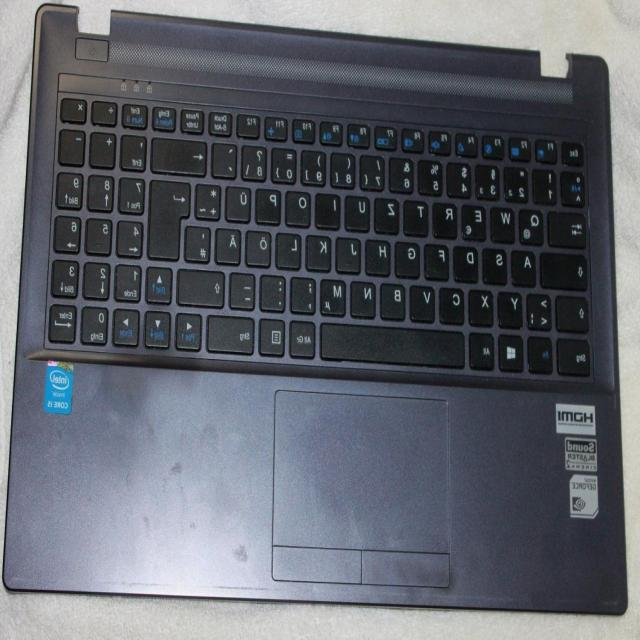0: (274, 144, 300, 181)
1: (535, 165, 559, 202)
2: (506, 164, 530, 200)
3: (478, 161, 502, 197)
4: (449, 159, 474, 195)
5: (420, 157, 445, 193)
6: (391, 154, 416, 190)
7: (363, 151, 387, 188)
8: (333, 149, 359, 187)
9: (303, 146, 329, 183)
a: (514, 247, 539, 284)
accent: (214, 139, 240, 175)
ae: (218, 225, 244, 263)
alt-left: (472, 329, 498, 367)
altgr-right: (292, 318, 318, 356)
b: (382, 279, 409, 317)
c: (441, 284, 467, 323)
caret: (564, 168, 588, 204)
comma: (293, 274, 319, 312)
d: (456, 242, 482, 281)
del: (154, 134, 210, 172)
e: (464, 200, 489, 238)
enter: (150, 176, 194, 258)
f: (428, 240, 452, 277)
g: (398, 238, 422, 275)
h: (368, 236, 394, 273)
hash: (187, 222, 213, 260)
i: (318, 190, 343, 226)
j: (339, 233, 363, 271)
k: (308, 231, 334, 269)
keyboard: (41, 71, 606, 388)
l: (279, 229, 304, 267)
less: (529, 290, 555, 329)
m: (323, 275, 349, 314)
minus: (232, 270, 259, 308)
n: (353, 278, 379, 316)
o: (288, 187, 314, 224)
oe: (248, 228, 274, 265)
p: (258, 184, 284, 222)
plus: (198, 180, 224, 218)
point: (263, 272, 289, 310)
q: (521, 205, 547, 243)
r: (434, 199, 460, 236)
s: (486, 244, 510, 282)
shift-left: (558, 292, 592, 330)
shift-lock: (543, 249, 591, 287)
shift-right: (180, 265, 227, 305)
space: (324, 321, 468, 365)
ss: (244, 142, 270, 178)
strg-left: (559, 335, 595, 374)
strg-right: (209, 312, 258, 352)
t: (406, 197, 432, 234)
tab: (551, 207, 590, 246)
u: (347, 192, 373, 229)
ue: (228, 182, 254, 220)
v: (412, 282, 438, 320)
w: (494, 202, 518, 240)
x: (470, 286, 496, 324)
y: (500, 288, 525, 326)
z: (376, 194, 402, 231)
